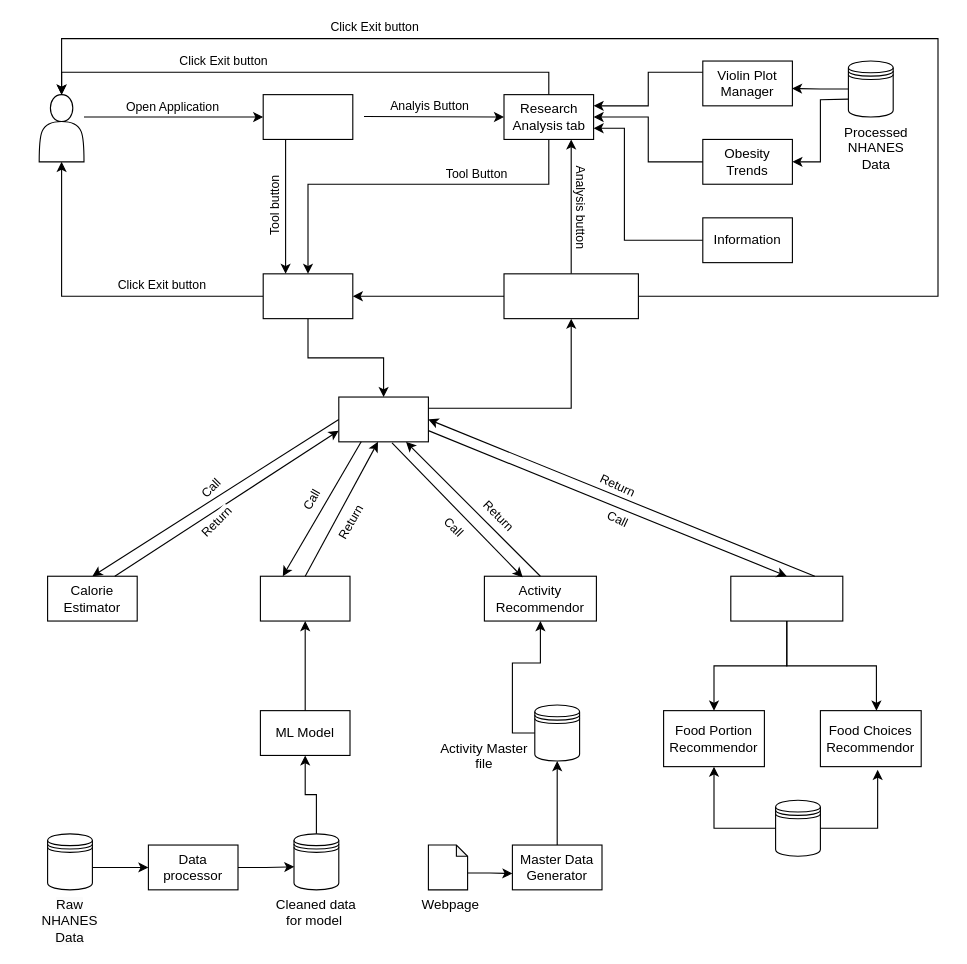
Image size: 967x964. Some labels were removed from this diagram. Here are the shapes that lost their labels. From the top down, the centre of each, then its label:
[307,116]: Landing Page
[307,296]: Tool (User Input tab)
[570,296]: Recommendation Page
[383,419]: Controller
[304,598]: Risk Predictor
[786,598]: Diet Recommendor
